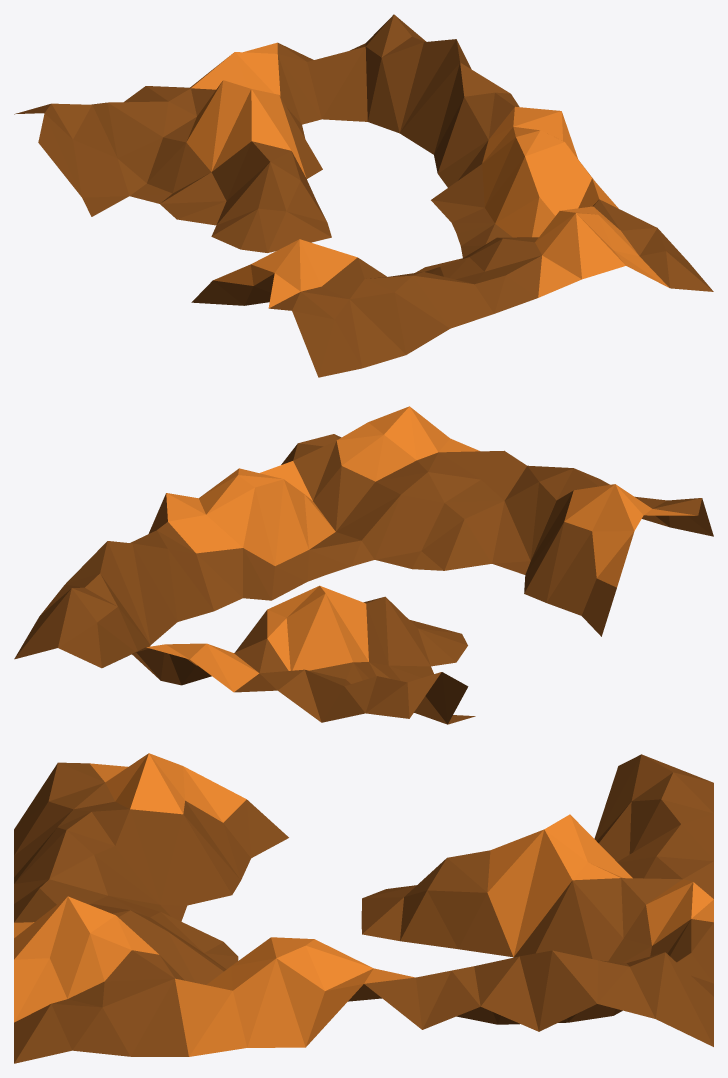
File: MountainsPart02.FBX
3 views of the same model, one above another, from view 1: azimuth 30°, elevation 25°; view 2: azimuth 150°, elevation 25°; view 3: azimuth 270°, elevation 25° (orthographic). The views are drawn at different scales.
Visible parts, largest first — view 1: MountainsPart02; view 2: MountainsPart02; view 3: MountainsPart02.
Boxes of the visible parts, bbox=[...] form: MountainsPart02: bbox=[14, 14, 713, 377]; MountainsPart02: bbox=[14, 406, 713, 724]; MountainsPart02: bbox=[14, 753, 713, 1063].
Bounding box in the file's own units: 4697 × 1052 × 6000.
